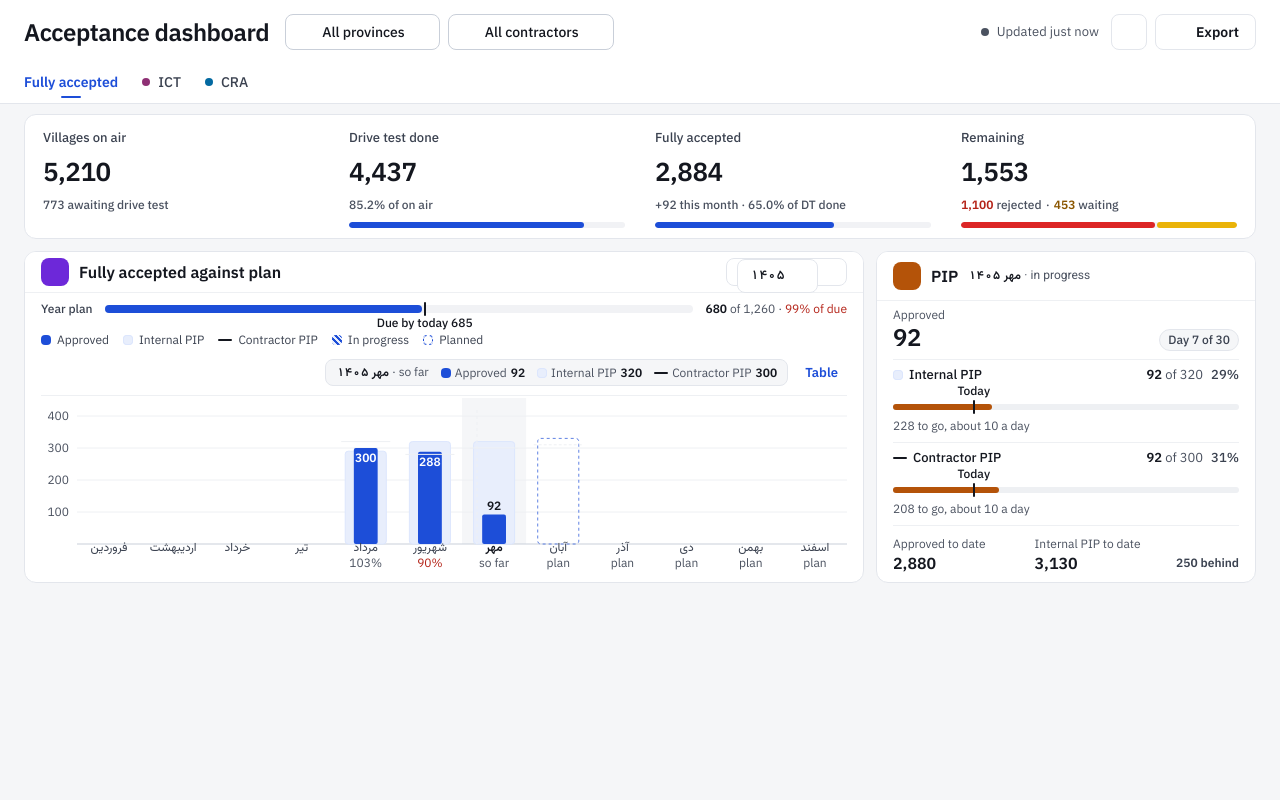
Test: the year › defaults to the current Shamsi year and asks for it
Click the dropdown named "Year".
click(778, 276)  # box left=737, top=259, right=818, bottom=293
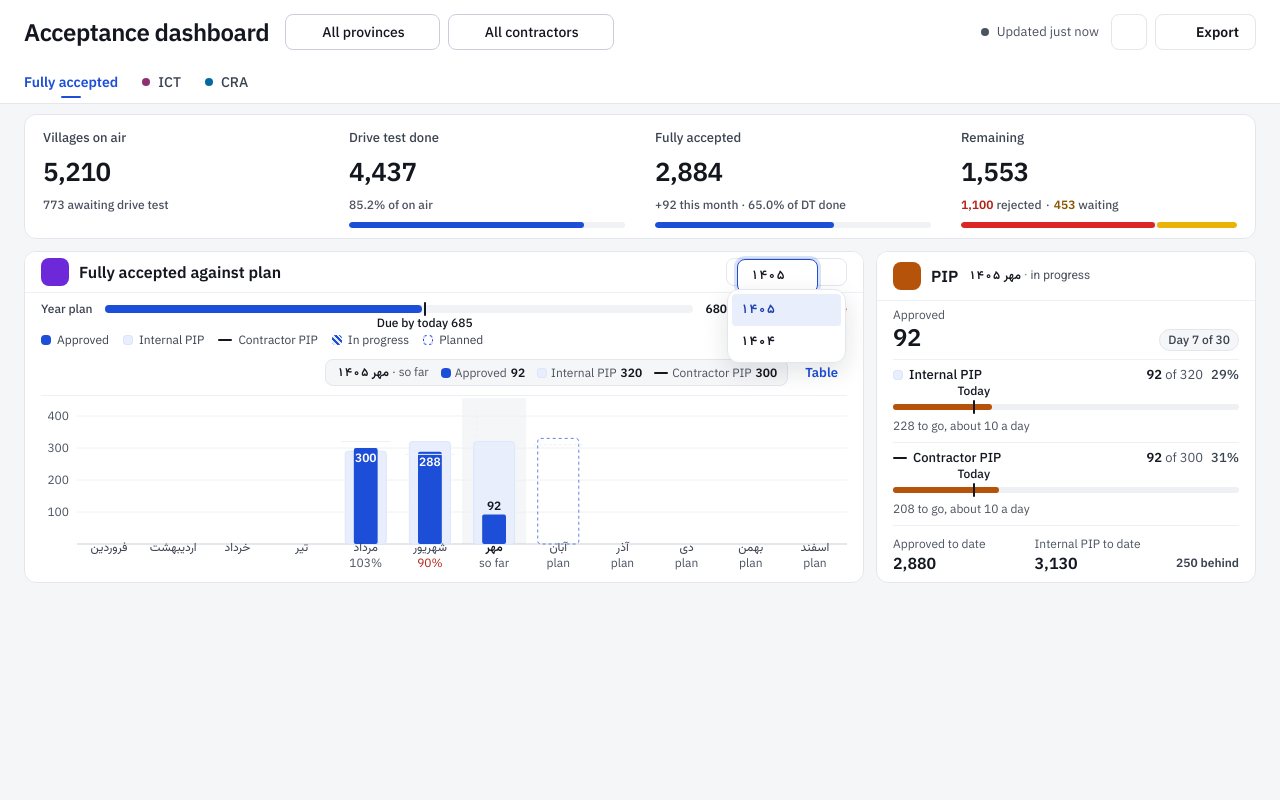
Expected: the options read "۱۴۰۵", "۱۴۰۴", in this order, left=732, top=294, right=841, bottom=326; left=740, top=332, right=775, bottom=352
